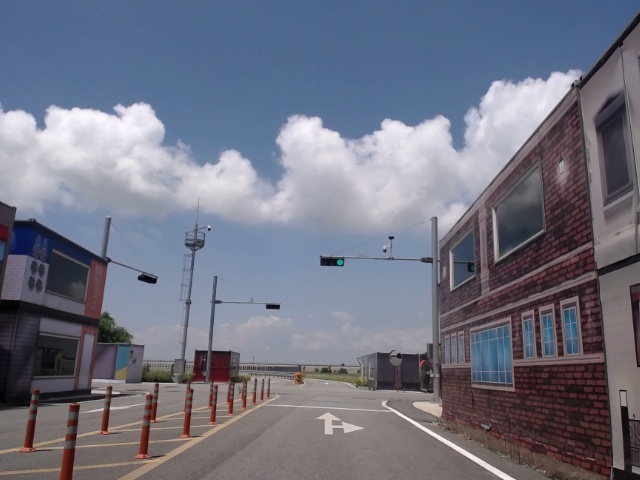green_3: (321, 258, 344, 265)
